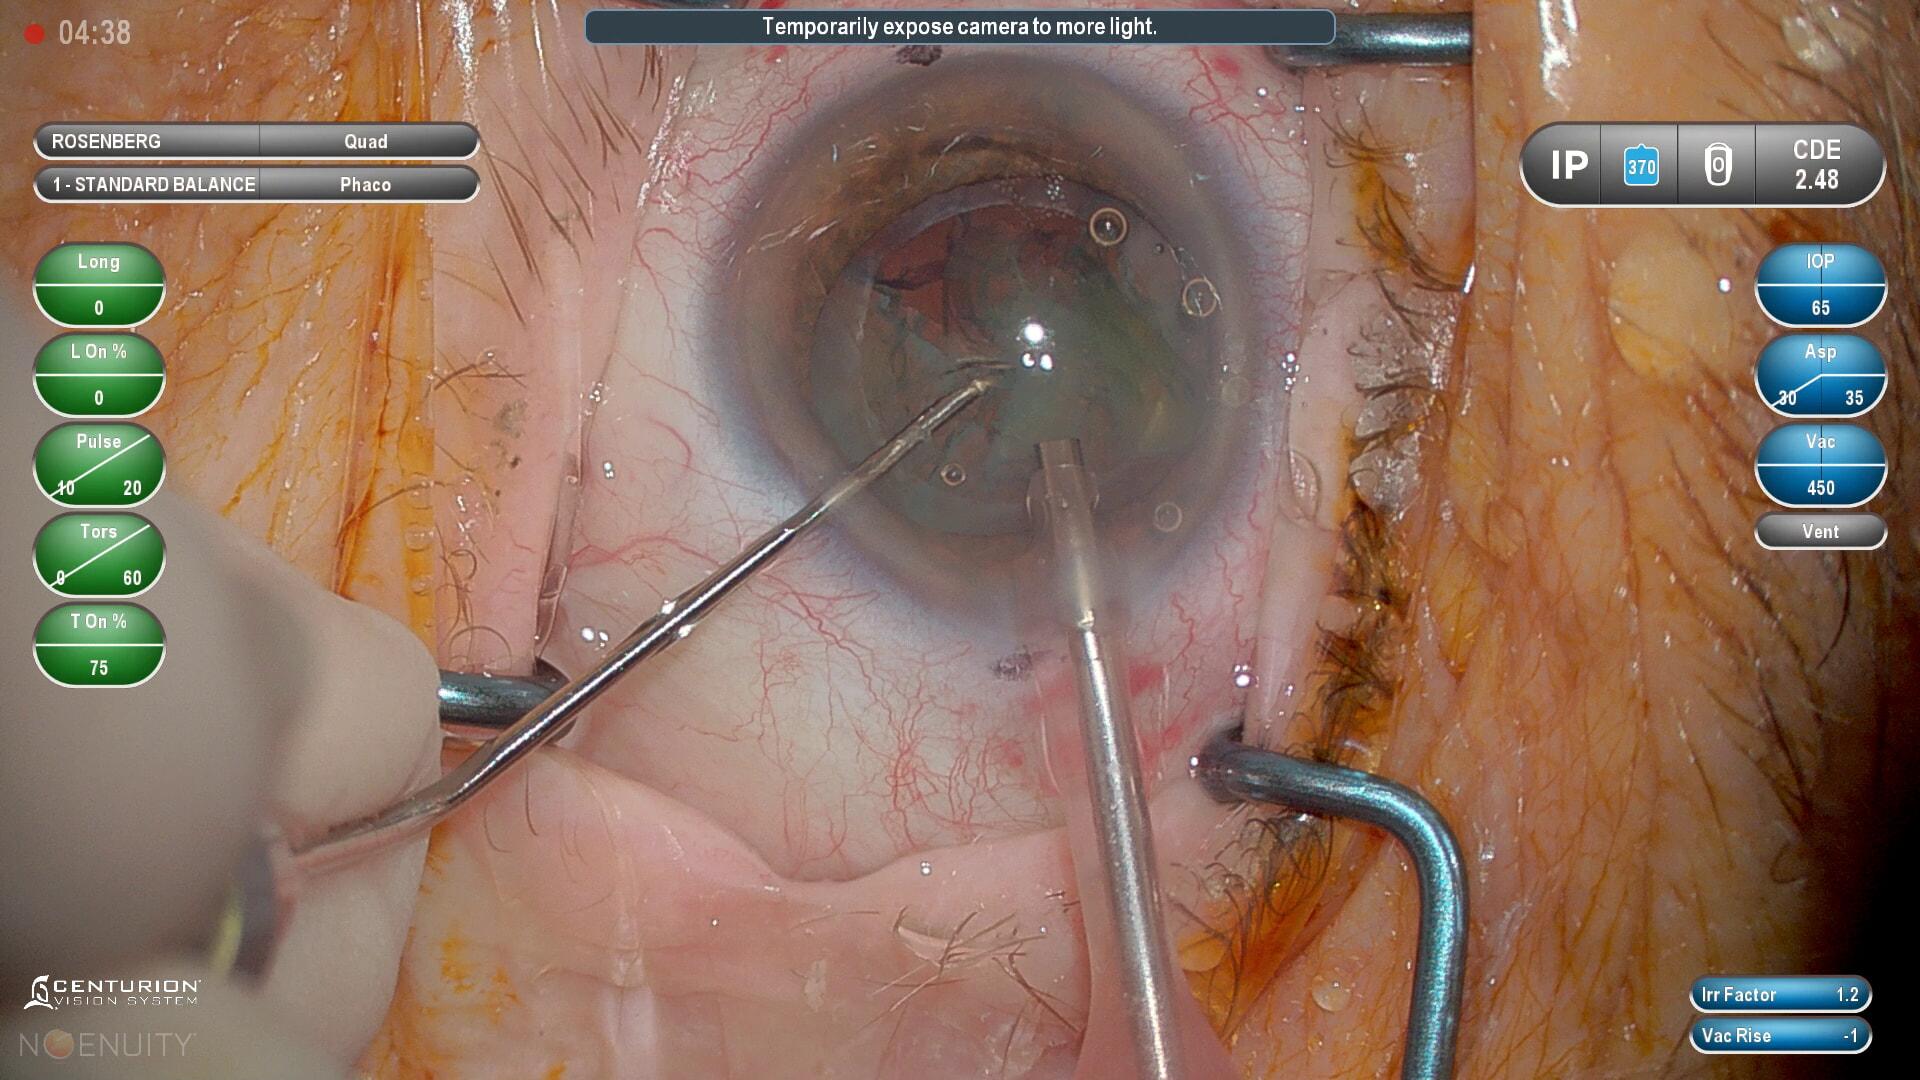iris: (728, 68, 1255, 617)
pupil: (803, 172, 1228, 536)
